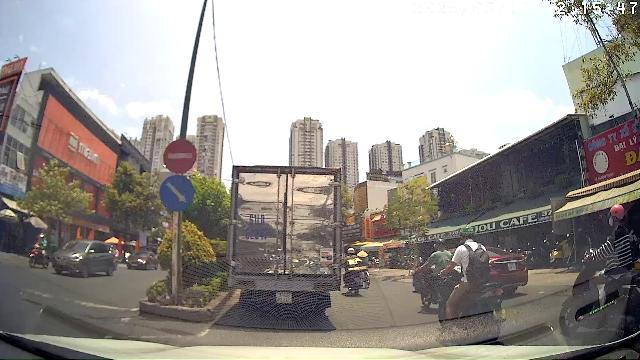102-cam-di-nguoc-chieu: (163, 138, 197, 174)
302a-huong-phai-di-vong-chuong-ngai-vat-1: (160, 174, 194, 212)
